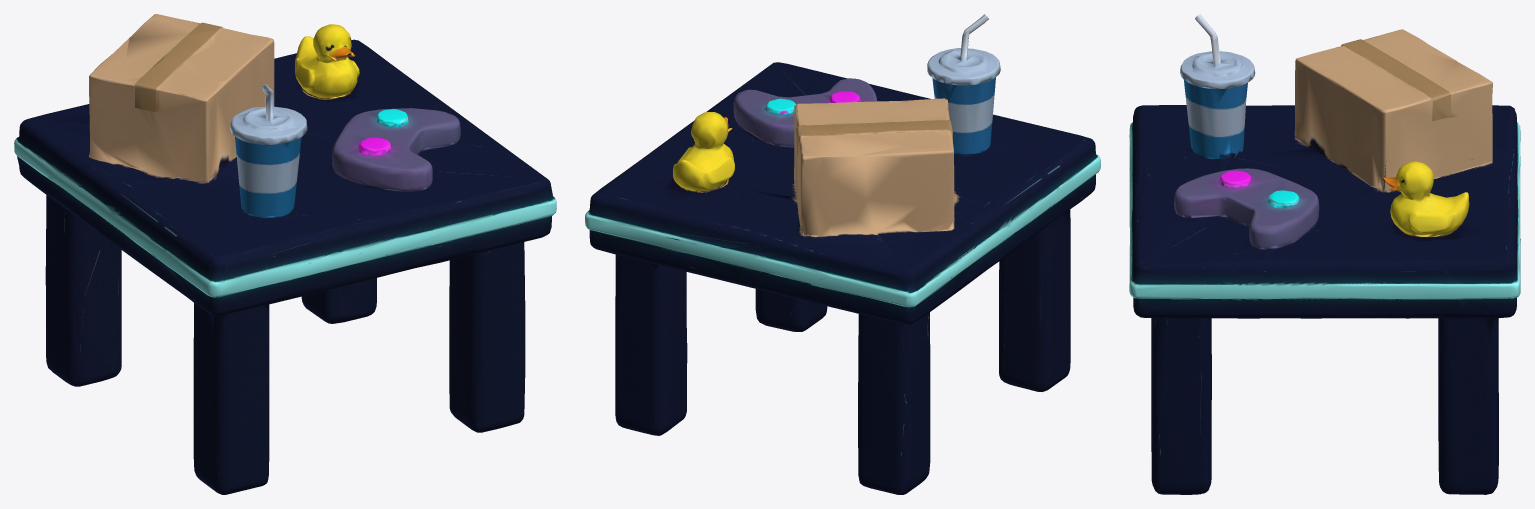
Rendered from mesa-objetos.glb.
3 views of the same model, side by side, from view 1: azimuth 30°, elevation 25°; view 2: azimuth 150°, elevation 25°; view 3: azimuth 270°, elevation 25° (orthographic). The views are drawn at different scales.
Bounding box in the file's own units: 1.91 × 2 × 1.91.
1 material, 1 textured.
